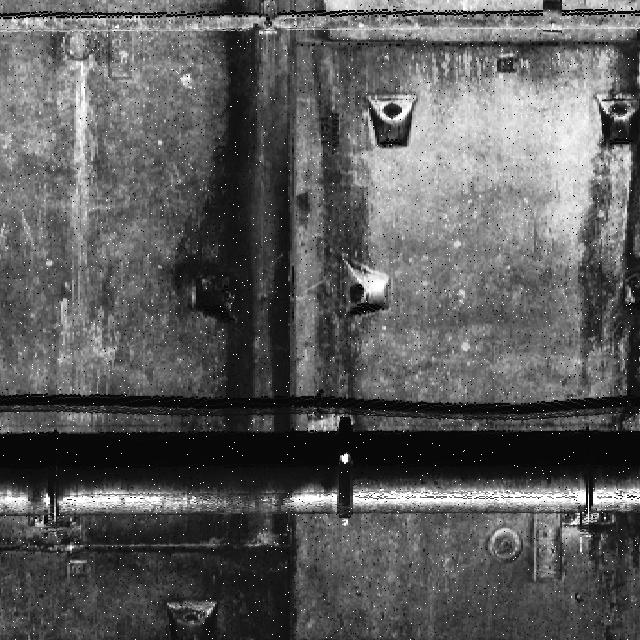leakage: (164, 6, 366, 639), (576, 19, 639, 425), (582, 502, 639, 582)
